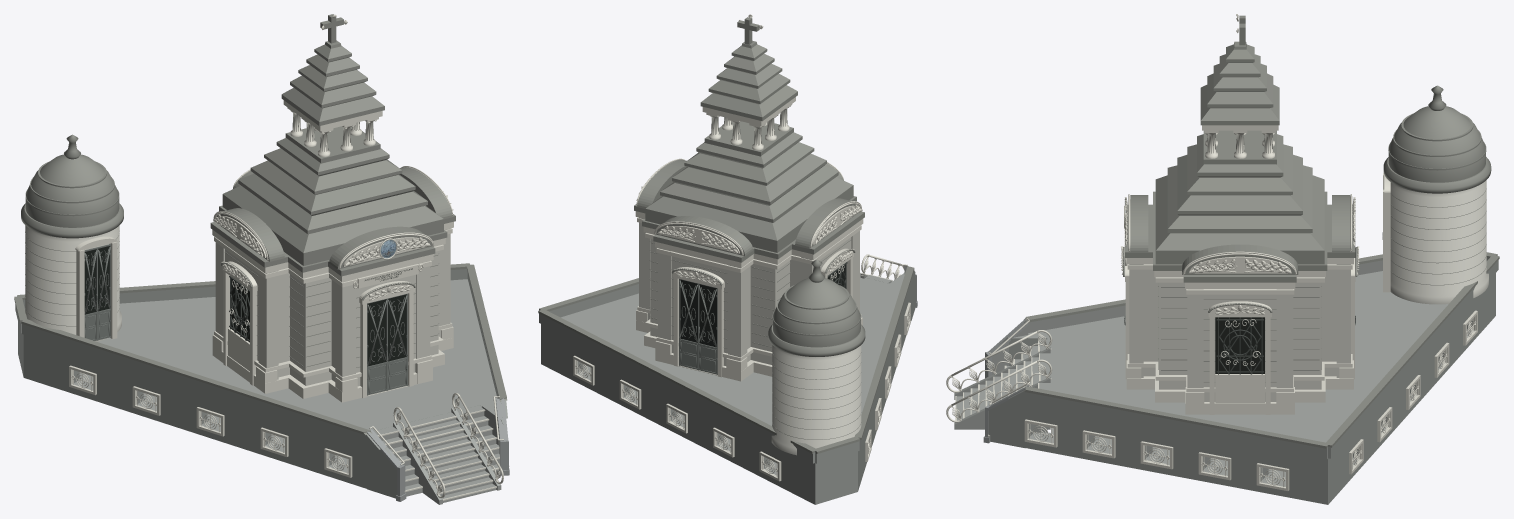
File: modelo.glb
3 renders of one model, left to right at view 1: azimuth 30°, elevation 25°; view 2: azimuth 150°, elevation 25°; view 3: azimuth 270°, elevation 25°, orthographic. The views are drawn at different scales.
Visible parts, largest first — view 1: Basamento triangular truncado, Cubierta escalonada inferior, Anexo circular, Cubierta escalonada superior, Cupula anexo, Cuerpo central, Pretil perimetral.003, Albarda perimetral.003, Hueco puerta ventana, Pilastra angular.007, Pilastra angular, Resalto fachada 3 (+29 smaller); view 2: Basamento triangular truncado, Cubierta escalonada inferior, Anexo circular, Cupula anexo, Cubierta escalonada superior, Cuerpo central, Pretil perimetral.001, Hueco puerta ventana.002, Albarda perimetral.001, Pilastra angular.005, Albarda perimetral.003, Resalto fachada 2 (+24 smaller); view 3: Basamento triangular truncado, Cubierta escalonada inferior, Anexo circular, Cuerpo central, Cupula anexo, Cubierta escalonada superior, Pretil perimetral.002, Hueco puerta ventana.001, Resalto fachada 1, Albarda perimetral.002, Albarda perimetral.001, Zocalo linterna (+21 smaller).
Boxes of the visible parts, box(x1,y1,x2,y2) form: Basamento triangular truncado: box(18, 279, 503, 488); Cubierta escalonada inferior: box(222, 138, 443, 265); Anexo circular: box(25, 225, 121, 341); Cubierta escalonada superior: box(281, 40, 384, 125); Cupula anexo: box(25, 154, 119, 227); Cuerpo central: box(290, 251, 438, 385); Pretil perimetral.003: box(22, 324, 383, 449); Albarda perimetral.003: box(21, 319, 372, 434); Hueco puerta ventana: box(367, 294, 406, 366); Pilastra angular.007: box(258, 270, 278, 379); Pilastra angular: box(335, 279, 355, 376); Resalto fachada 3: box(225, 249, 289, 377); Basamento triangular truncado: box(541, 273, 910, 504); Cubierta escalonada inferior: box(645, 132, 853, 252); Anexo circular: box(771, 345, 861, 455); Cupula anexo: box(773, 278, 860, 347); Cubierta escalonada superior: box(700, 40, 797, 121); Cuerpo central: box(650, 239, 789, 364); Pretil perimetral.001: box(539, 313, 815, 463); Hueco puerta ventana.002: box(680, 279, 716, 347); Albarda perimetral.001: box(538, 310, 815, 453); Pilastra angular.005: box(728, 265, 747, 357); Albarda perimetral.003: box(854, 266, 914, 439); Resalto fachada 2: box(671, 256, 750, 365); Basamento triangular truncado: box(999, 271, 1495, 504); Cubierta escalonada inferior: box(1155, 134, 1324, 264); Anexo circular: box(1390, 180, 1488, 304); Cuerpo central: box(1159, 282, 1321, 389); Cupula anexo: box(1388, 106, 1485, 182); Cubierta escalonada superior: box(1200, 41, 1279, 125); Pretil perimetral.002: box(1008, 389, 1327, 459); Hueco puerta ventana.001: box(1215, 317, 1264, 373); Resalto fachada 1: box(1203, 294, 1276, 401); Albarda perimetral.002: box(1023, 386, 1327, 448); Albarda perimetral.001: box(1325, 255, 1499, 447); Zocalo linterna: box(1203, 130, 1276, 164).
Bounding box in the file's own units: 17.98 × 16.61 × 20.78.
Materials: 11 (1 with a texture image).
